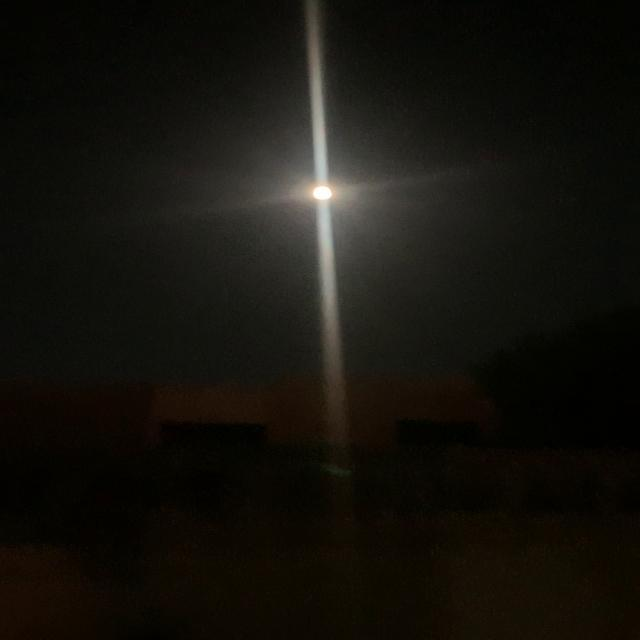moon: (290, 175, 354, 208)
